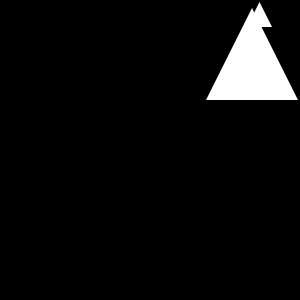triangle: (206, 8, 298, 100), (247, 2, 272, 27)
